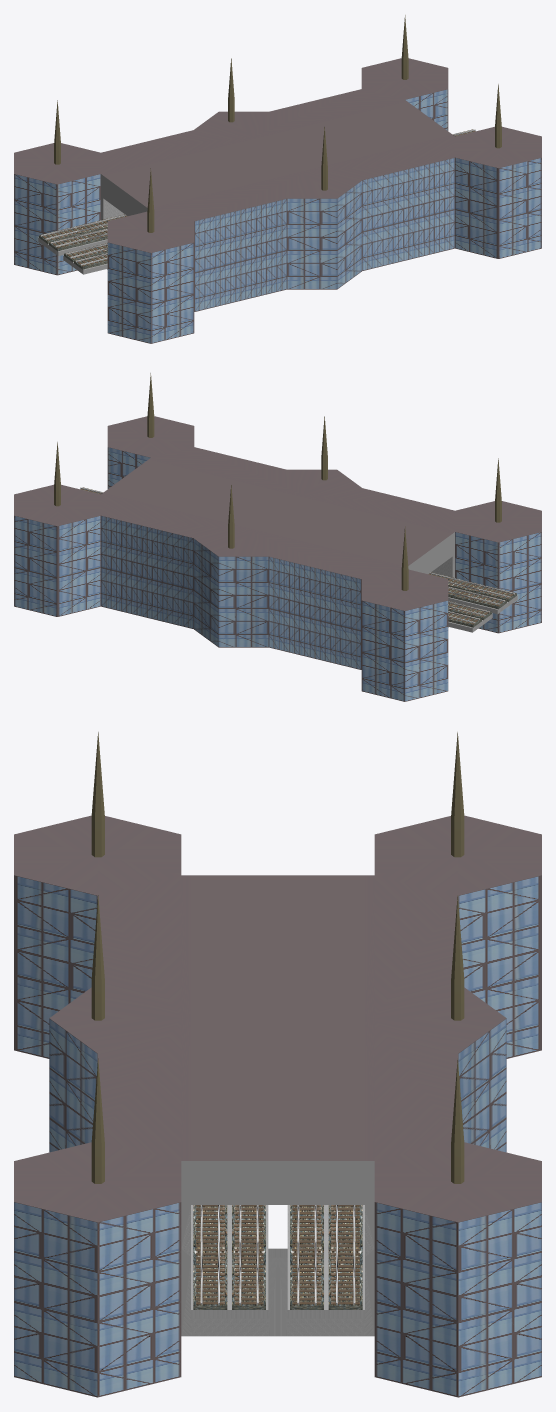
Rendered from mitakiharastation_out.fbx.
The picture shows the model from 3 angles, top to bottom: view 1: azimuth 30°, elevation 25°; view 2: azimuth 150°, elevation 25°; view 3: azimuth 270°, elevation 25°; orthographic projection. The views are drawn at different scales.
Visible parts, largest first — view 1: station; view 2: station; view 3: station.
Boxes of the visible parts, x1=… form: station: x1=14, y1=15, x2=541, y2=343; station: x1=14, y1=373, x2=541, y2=701; station: x1=14, y1=732, x2=541, y2=1397.
Size of the model in its own units: 1000 by 342 by 546.
